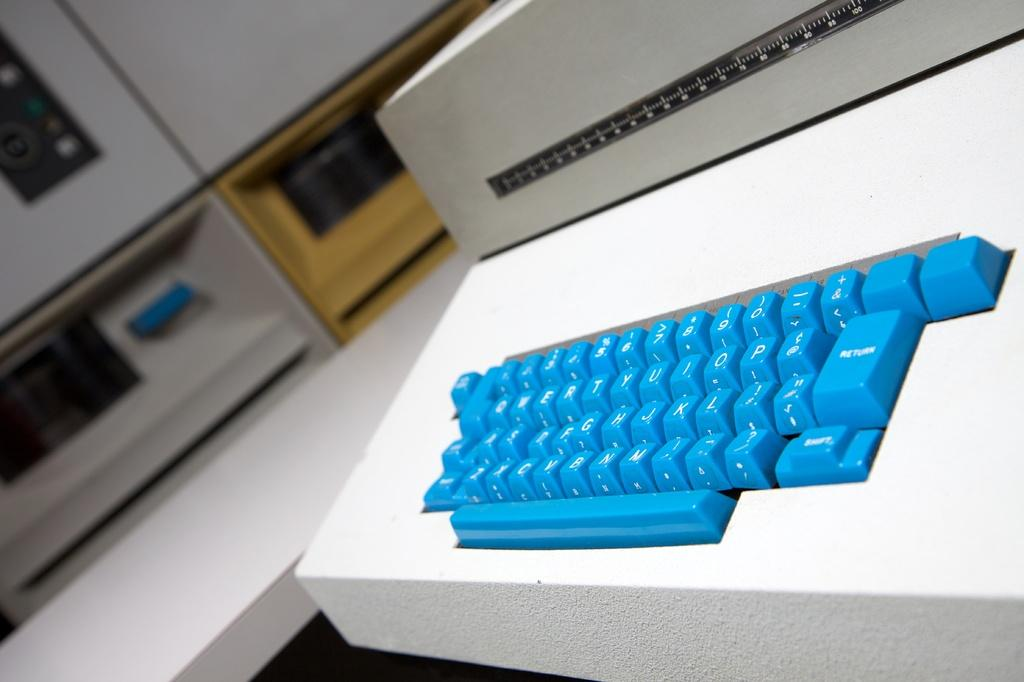Computer-keyboard: (420, 230, 1012, 547)
